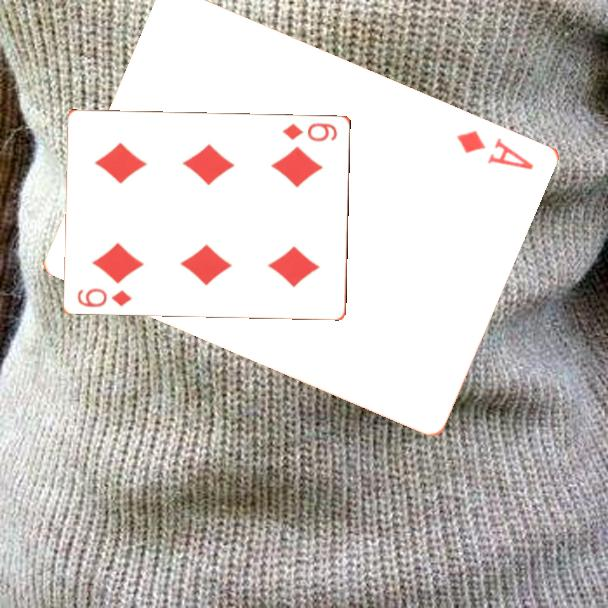d01: (453, 126, 537, 173)
d06: (74, 284, 135, 310), (279, 119, 340, 144)
